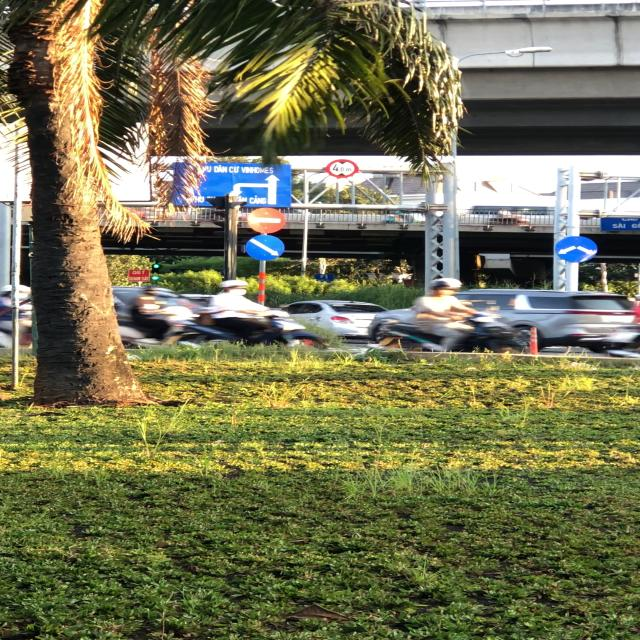Bien bao cam di nguoc chieu: (240, 206, 293, 234)
Bien bao han che chieu cao: (324, 158, 358, 180)
Bien bao huong phai di vong chuong ngai vat: (552, 235, 605, 265), (248, 232, 288, 262)
